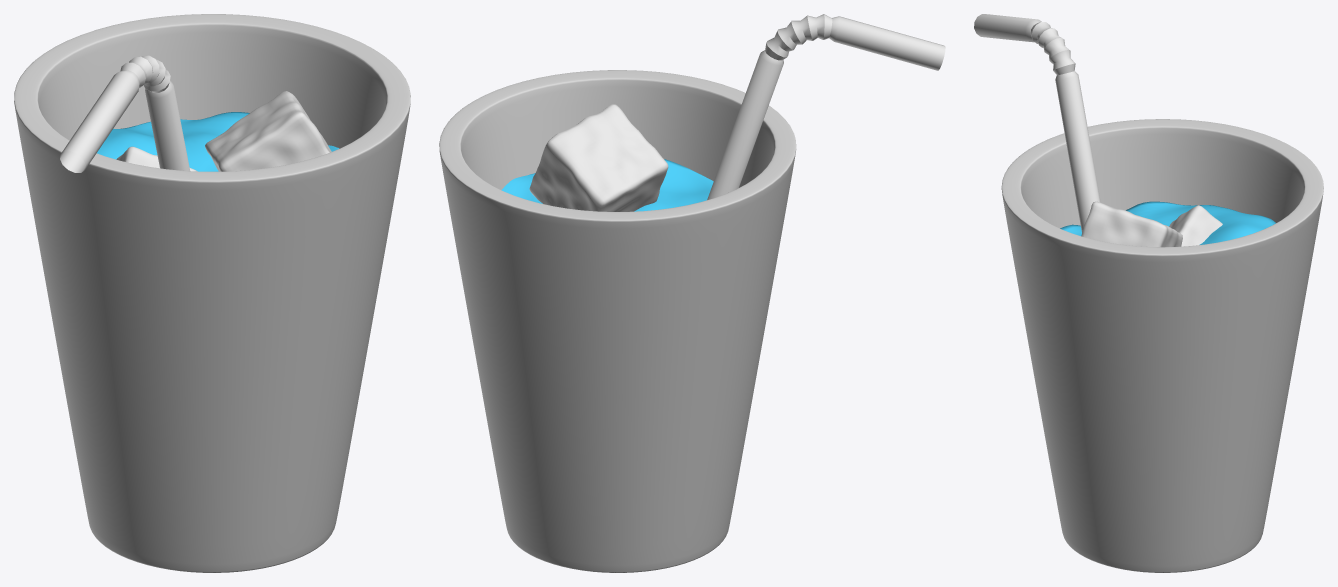
Rendered from Cup of water.fbx.
3 views of the same model, side by side, from view 1: azimuth 30°, elevation 25°; view 2: azimuth 150°, elevation 25°; view 3: azimuth 270°, elevation 25° (orthographic). The views are drawn at different scales.
Visible parts, largest first — view 1: Vert, Vert.001, Cube, Circle, Cube.001; view 2: Vert, Cube, Vert.001, Circle; view 3: Vert, Vert.001, Cube, Circle, Cube.001.
Part boxes in pixels (x1,y1,x2,y2): Vert: (14, 14, 410, 572); Vert.001: (60, 55, 190, 172); Cube: (205, 91, 331, 171); Circle: (97, 112, 339, 171); Cube.001: (116, 146, 197, 171); Vert: (439, 70, 796, 572); Cube: (529, 104, 668, 211); Vert.001: (707, 14, 945, 199); Circle: (501, 159, 713, 211); Vert: (1001, 119, 1323, 572); Vert.001: (974, 14, 1100, 232); Cube: (1081, 201, 1182, 247); Circle: (1060, 201, 1275, 244); Cube.001: (1169, 205, 1222, 246).
Bounding box in the file's own units: 339 × 416 × 295.
